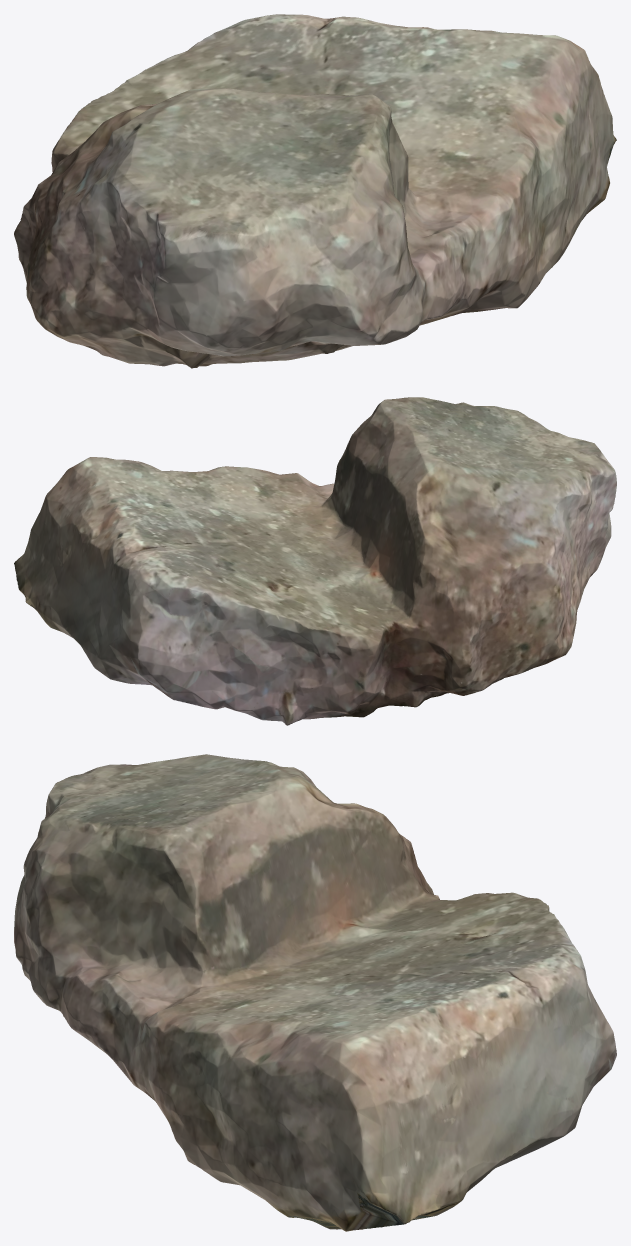
Rendered from FRAG-S1-FS-007.glb.
3 views of the same model, one above another, from view 1: azimuth 30°, elevation 25°; view 2: azimuth 150°, elevation 25°; view 3: azimuth 270°, elevation 25° (orthographic). The views are drawn at different scales.
Parts seen in each view (by area): view 1: FRAG-S1-FS-007; view 2: FRAG-S1-FS-007; view 3: FRAG-S1-FS-007.
Part boxes in pixels (x1=…): FRAG-S1-FS-007: x1=14, y1=14, x2=616, y2=368; FRAG-S1-FS-007: x1=14, y1=397, x2=616, y2=725; FRAG-S1-FS-007: x1=14, y1=754, x2=616, y2=1231.
Size of the model in its own units: 0.9373 by 0.392 by 0.7794.
1 material, 1 textured.
